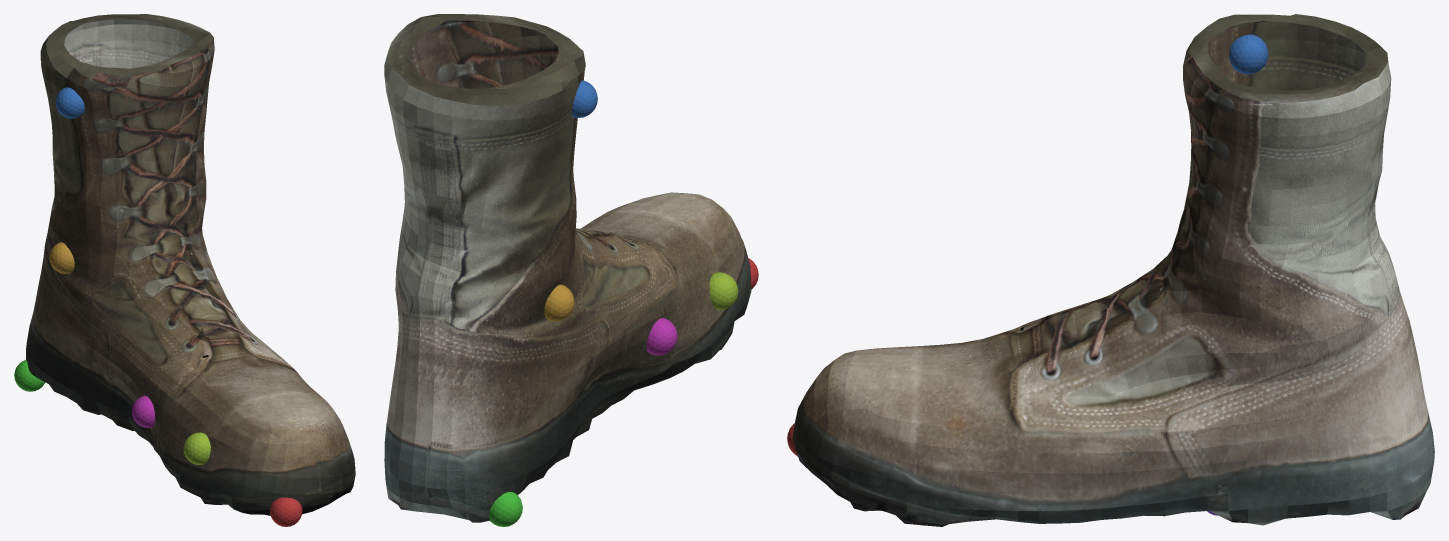
File: canonicalized_front_view_anchors.glb
3 views of the same model, side by side, from view 1: azimuth 30°, elevation 25°; view 2: azimuth 150°, elevation 25°; view 3: azimuth 270°, elevation 25° (orthographic). The views are drawn at different scales.
Visible parts, largest first — view 1: Object_2, anchor_01_rgb_142_014_014, anchor_03_rgb_089_142_014, anchor_02_rgb_014_051_142, anchor_06_rgb_142_083_014, anchor_04_rgb_142_014_126, anchor_08_rgb_019_142_014; view 2: Object_2, anchor_08_rgb_019_142_014, anchor_03_rgb_089_142_014, anchor_04_rgb_142_014_126, anchor_06_rgb_142_083_014, anchor_02_rgb_014_051_142; view 3: Object_2, anchor_02_rgb_014_051_142.
Part boxes in pixels (<box>): Object_2: <box>26,14,355,515</box>; anchor_01_rgb_142_014_014: <box>269,497,302,526</box>; anchor_03_rgb_089_142_014: <box>183,432,210,464</box>; anchor_02_rgb_014_051_142: <box>55,87,84,118</box>; anchor_06_rgb_142_083_014: <box>49,242,74,273</box>; anchor_04_rgb_142_014_126: <box>132,395,154,427</box>; anchor_08_rgb_019_142_014: <box>14,360,45,391</box>; Object_2: <box>384,14,751,522</box>; anchor_08_rgb_019_142_014: <box>489,492,522,526</box>; anchor_03_rgb_089_142_014: <box>709,272,738,310</box>; anchor_04_rgb_142_014_126: <box>646,318,677,355</box>; anchor_06_rgb_142_083_014: <box>544,284,574,321</box>; anchor_02_rgb_014_051_142: <box>572,80,597,117</box>; Object_2: <box>792,14,1434,526</box>; anchor_02_rgb_014_051_142: <box>1229,34,1268,74</box>.
Size of the model in its own units: 0.5986 by 1.29 by 1.63.
1 material, 1 textured.
